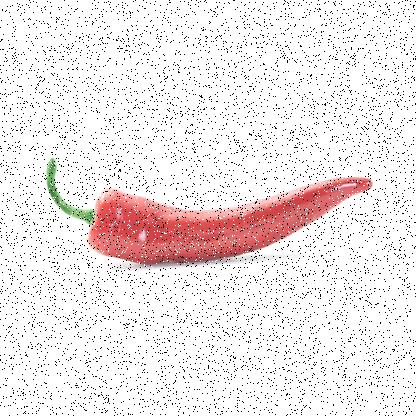chili: (43, 156, 370, 268)
